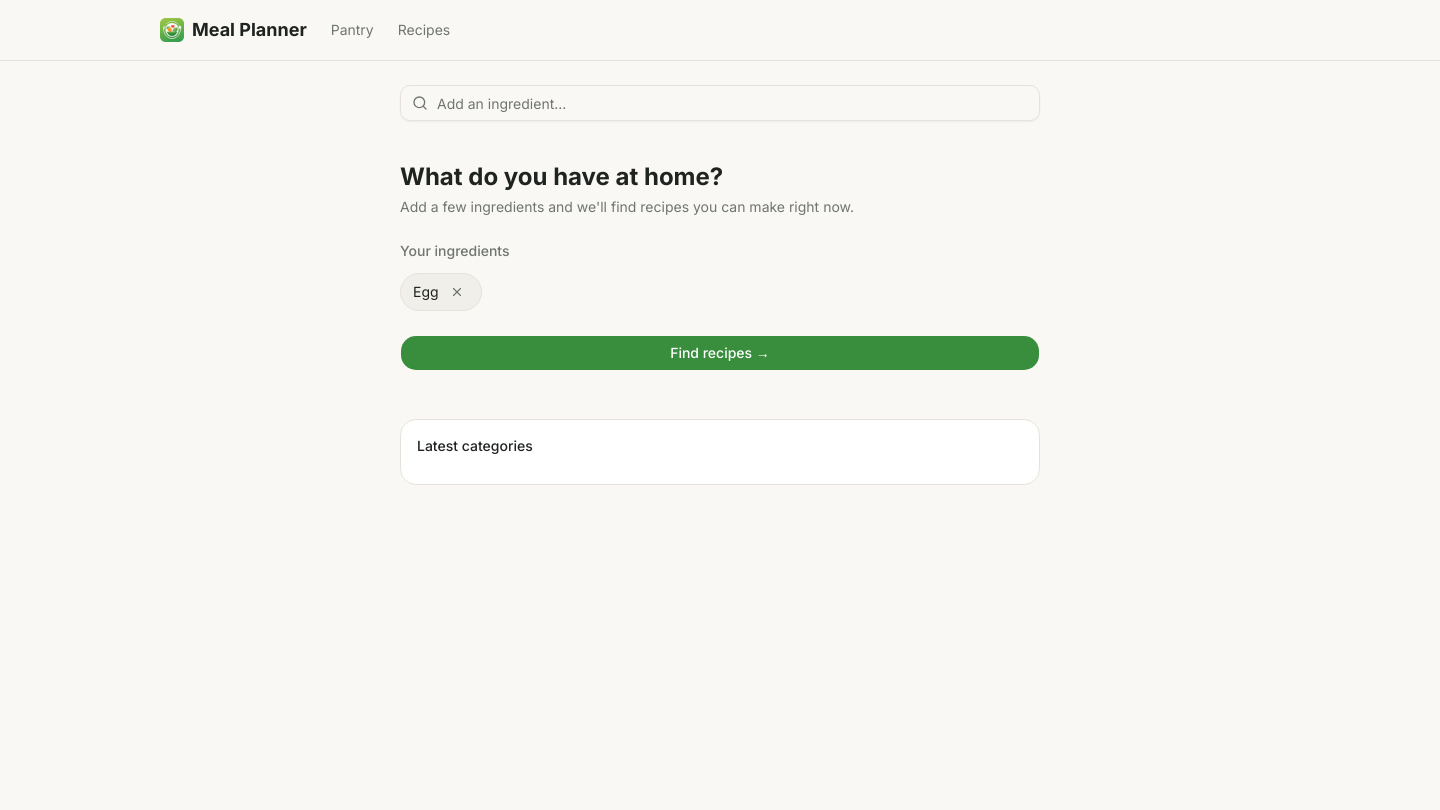
Test: App › keeps the current matches after returning from a recipe detail
The image size is (1440, 810).
What coordinates should you click on to do the following:
click the button "Find recipes →"
I would click on:
 (720, 353)
Its box is [400,335,1040,371].
(page scrolled)
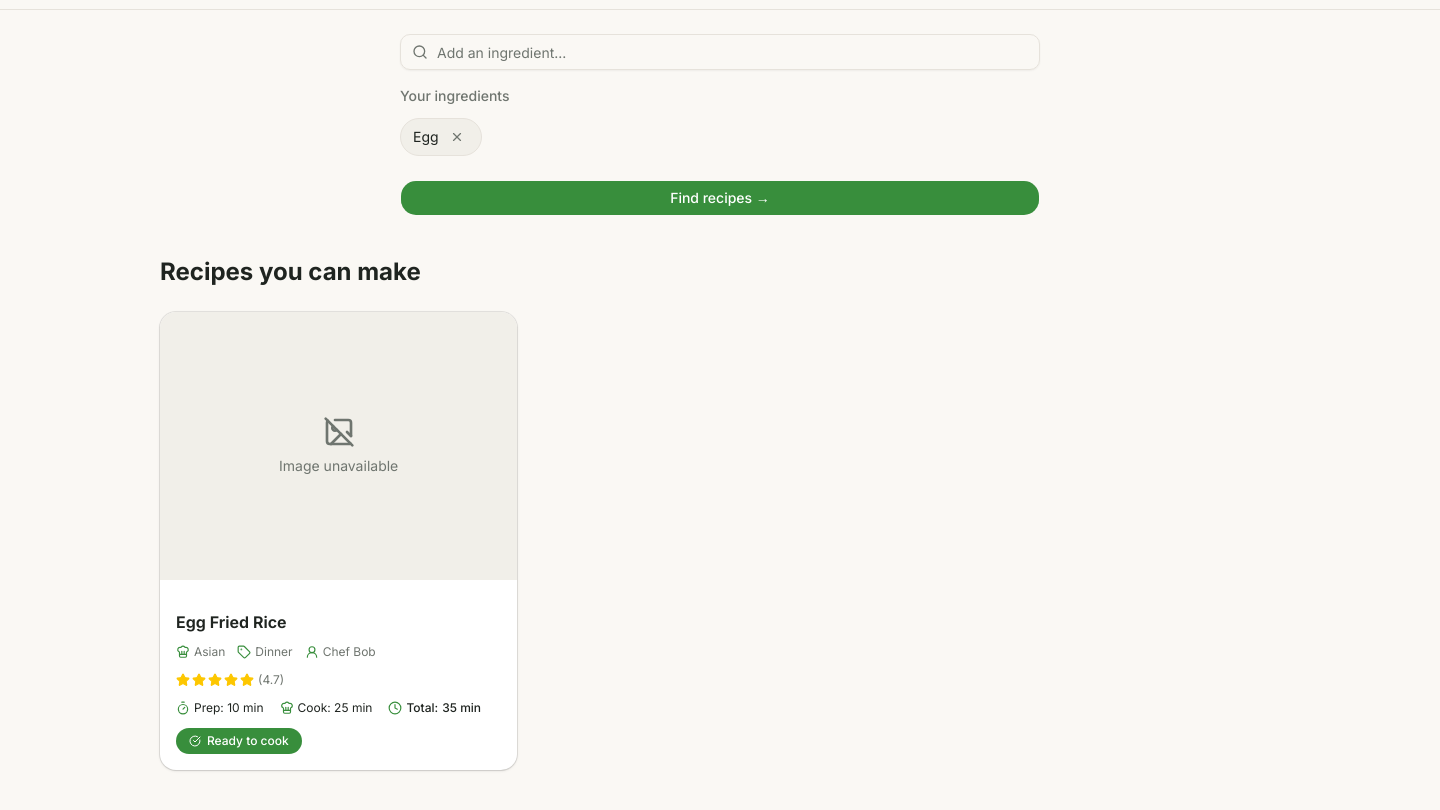
What coordinates should you click on to do the following:
click the link "Egg Fried Rice"
I would click on:
 (339, 541)
Its box is [160,312,517,770].
(page scrolled)
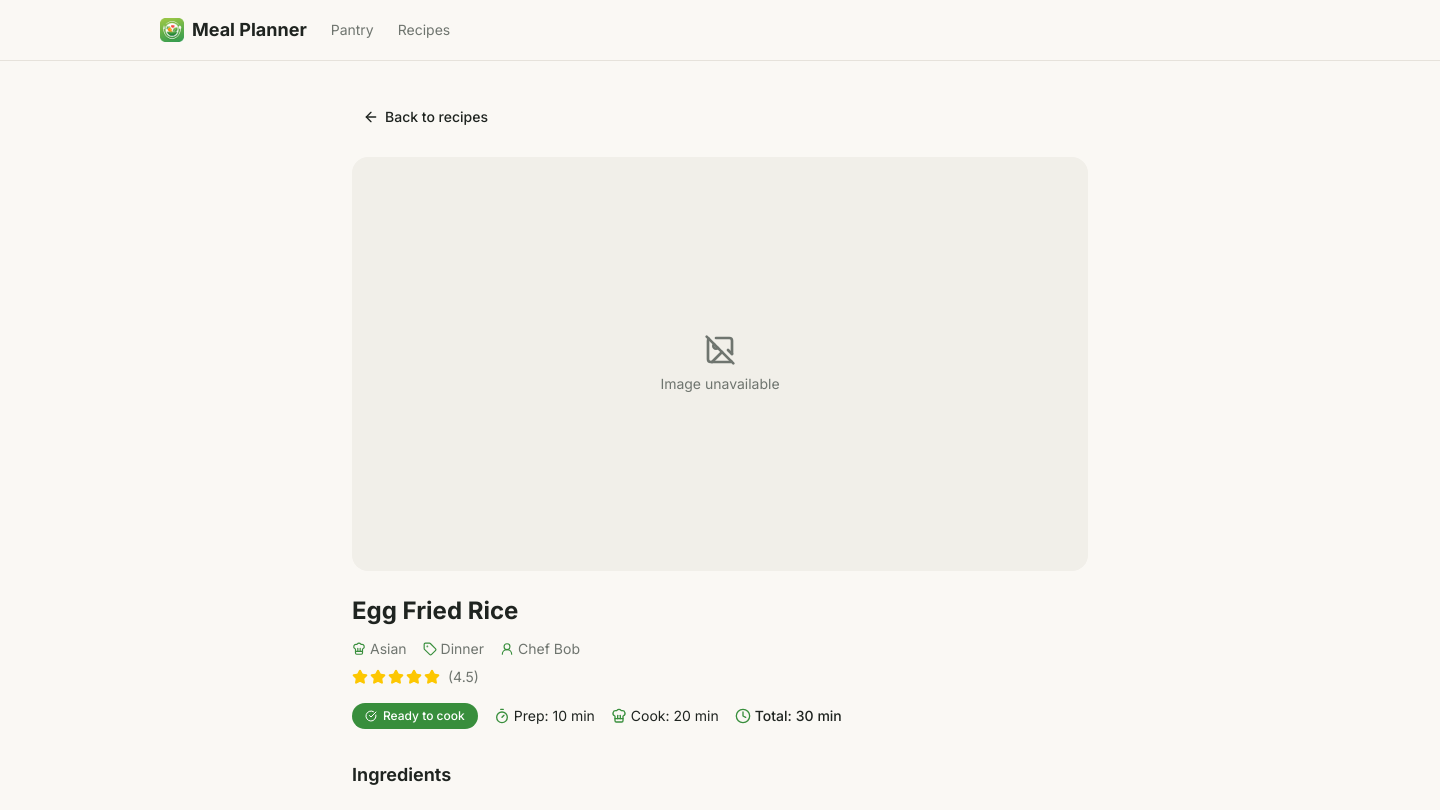
What coordinates should you click on to do the following:
click the button "Back to recipes"
I would click on:
 (426, 117)
Its box is [352,101,499,133].
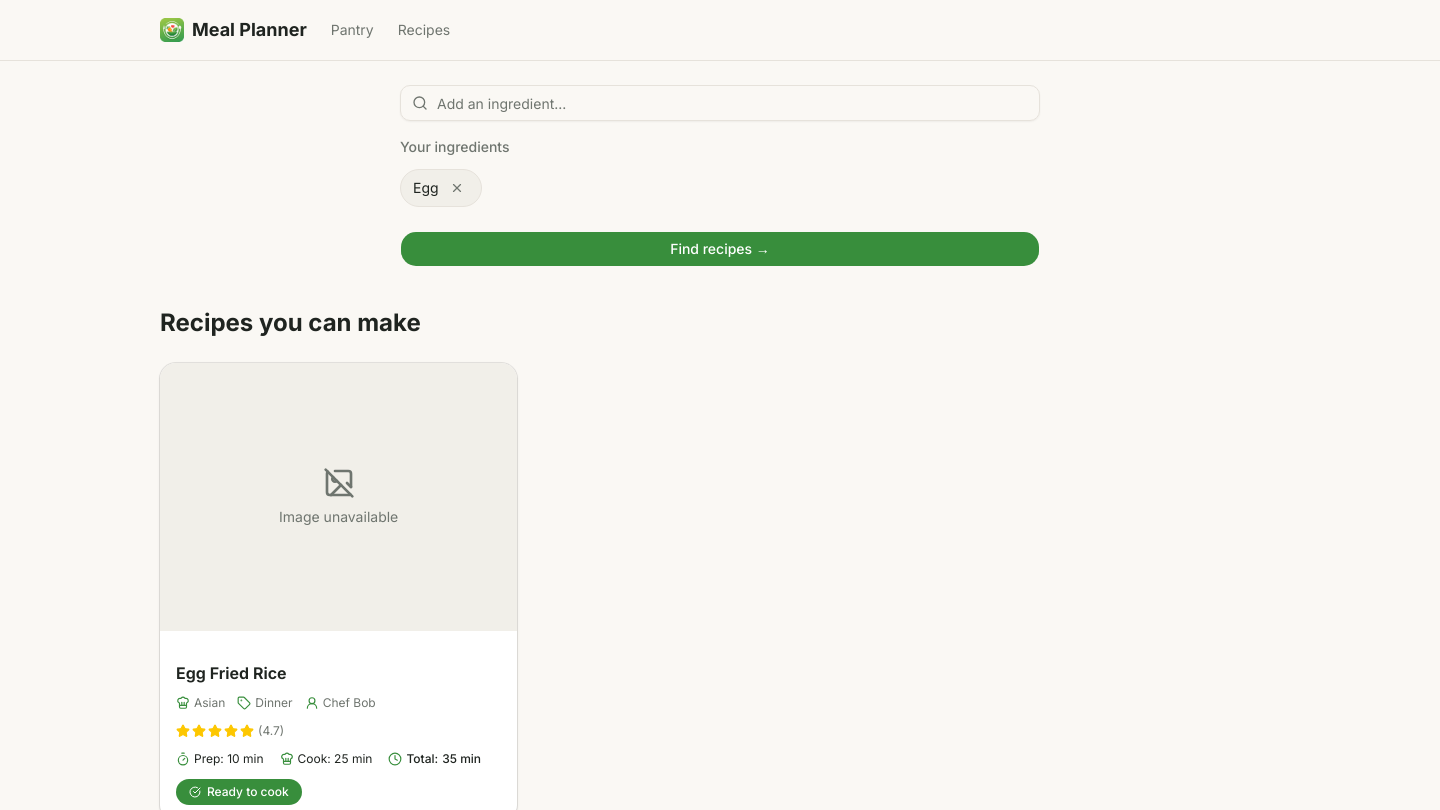
Now the heading "Recipes you can make" is shown, box [160,308,421,337]
